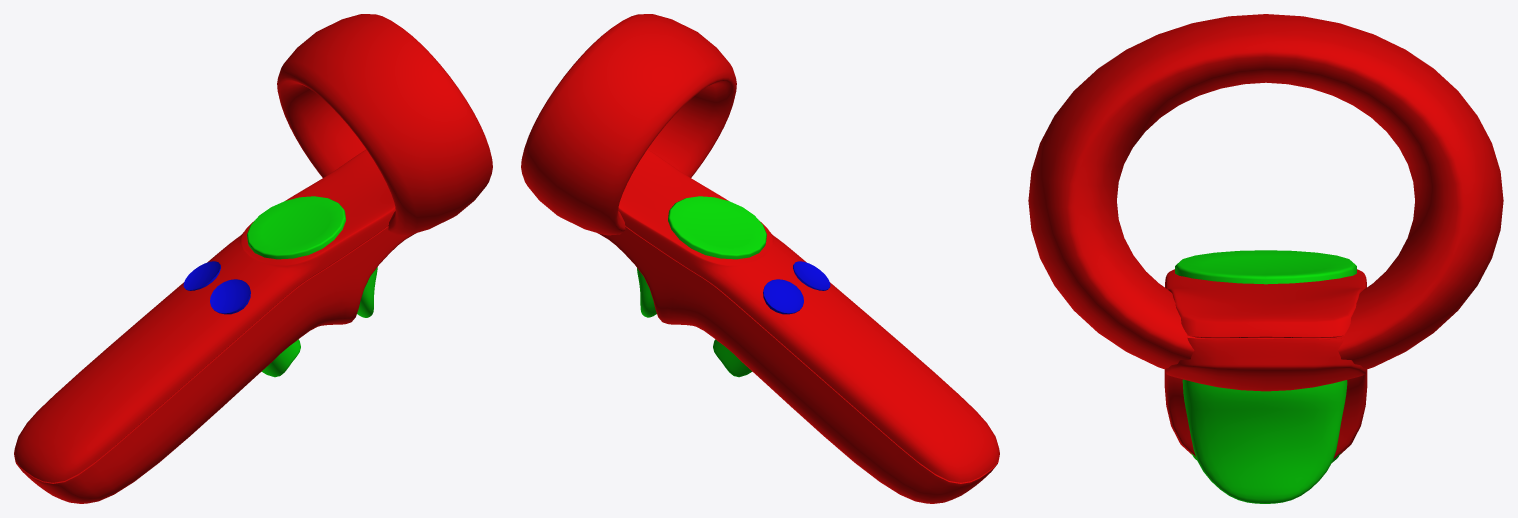
The model's file is FocusPlus.fbx.
3 views of the same model, side by side, from view 1: azimuth 30°, elevation 25°; view 2: azimuth 150°, elevation 25°; view 3: azimuth 270°, elevation 25° (orthographic). The views are drawn at different scales.
Visible parts, largest first — view 1: pCube9; view 2: pCube9; view 3: pCube9.
Boxes of the visible parts, left/top/right/bottom form: pCube9: left=14, top=14, right=492, bottom=503; pCube9: left=521, top=14, right=999, bottom=503; pCube9: left=1028, top=14, right=1503, bottom=503.
Bounding box in the file's own units: 14.79 × 12.83 × 7.89.
